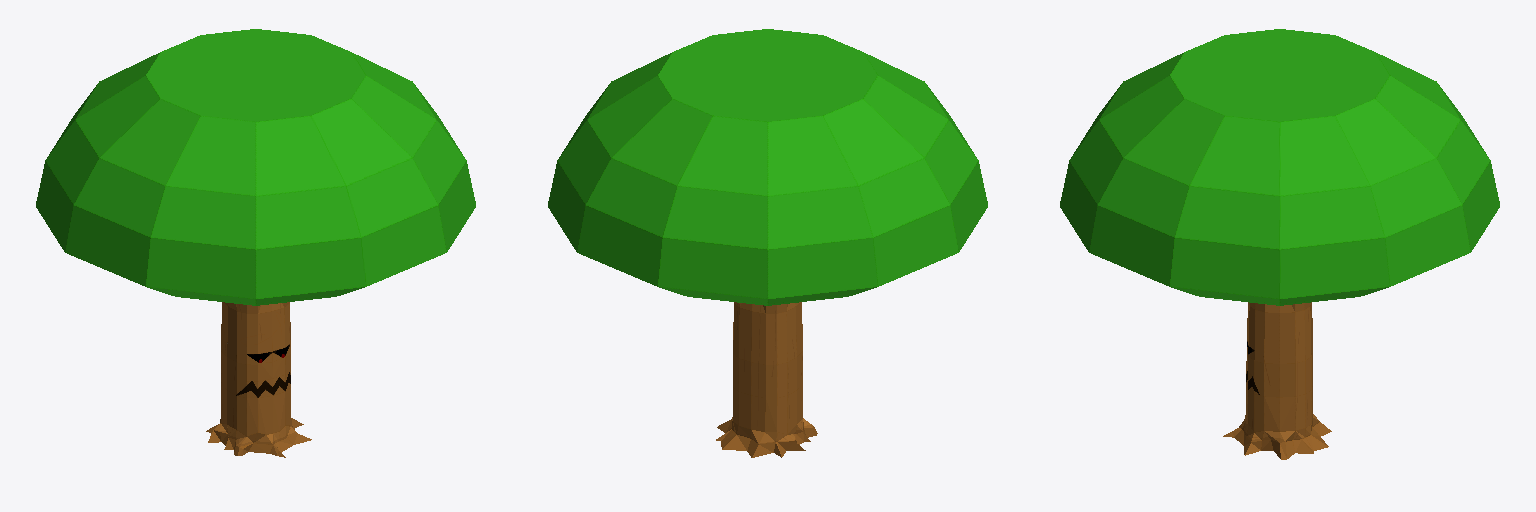
3 renders of one model, left to right at view 1: azimuth 30°, elevation 25°; view 2: azimuth 150°, elevation 25°; view 3: azimuth 270°, elevation 25°, orthographic.
Visible parts, largest first — view 1: pSphere1 body, body pCube1; view 2: pSphere1 body, body pCube1; view 3: pSphere1 body, body pCube1.
Part boxes in pixels (left/top/right/bottom): pSphere1 body: left=36, top=29, right=475, bottom=305; body pCube1: left=206, top=302, right=311, bottom=457; pSphere1 body: left=548, top=29, right=987, bottom=305; body pCube1: left=716, top=302, right=817, bottom=457; pSphere1 body: left=1060, top=29, right=1499, bottom=305; body pCube1: left=1223, top=302, right=1331, bottom=459.
Size of the model in its own units: 17.4 by 15.72 by 17.4.
1 materials, 1 textured.